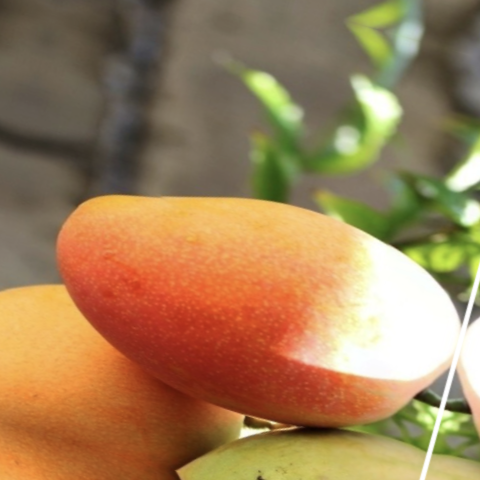mango: (0, 118, 480, 480)
